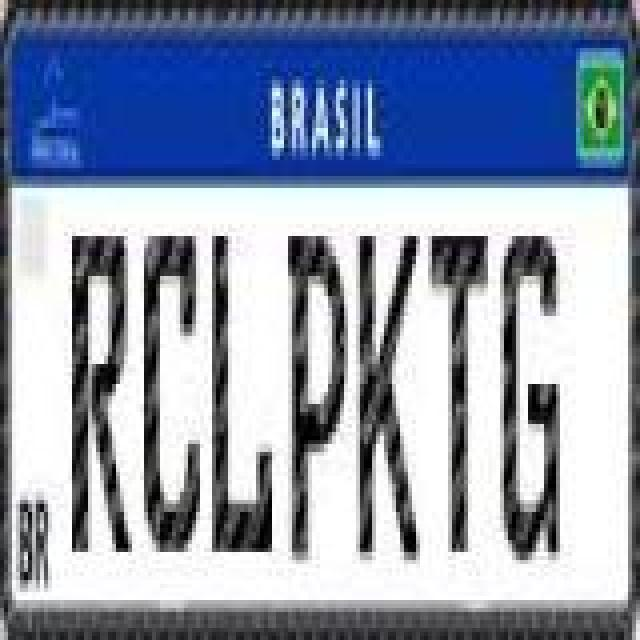C: (142, 230, 202, 554)
G: (498, 232, 558, 568)
K: (356, 232, 420, 568)
L: (208, 224, 272, 560)
P: (284, 232, 348, 568)
R: (72, 224, 136, 560)
T: (426, 230, 486, 554)
